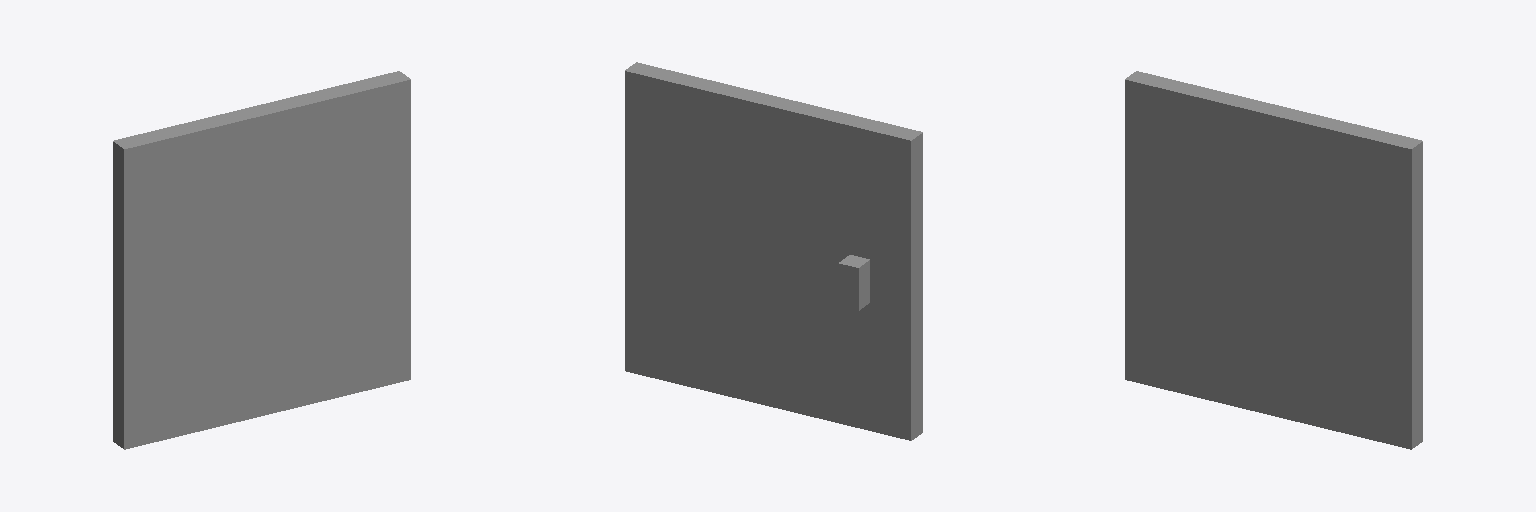
Rendered from locker_door.obj.
3 renders of one model, left to right at view 1: azimuth 30°, elevation 25°; view 2: azimuth 150°, elevation 25°; view 3: azimuth 330°, elevation 25°, orthographic.
Parts seen in each view (by area): view 1: locker_door; view 2: locker_door; view 3: locker_door.
Boxes of the visible parts, box(x1,y1,x2,y2) form: locker_door: box(113, 71, 410, 449); locker_door: box(625, 62, 922, 440); locker_door: box(1125, 71, 1422, 449).
Bounding box in the file's own units: 0.875 × 0.875 × 0.125.